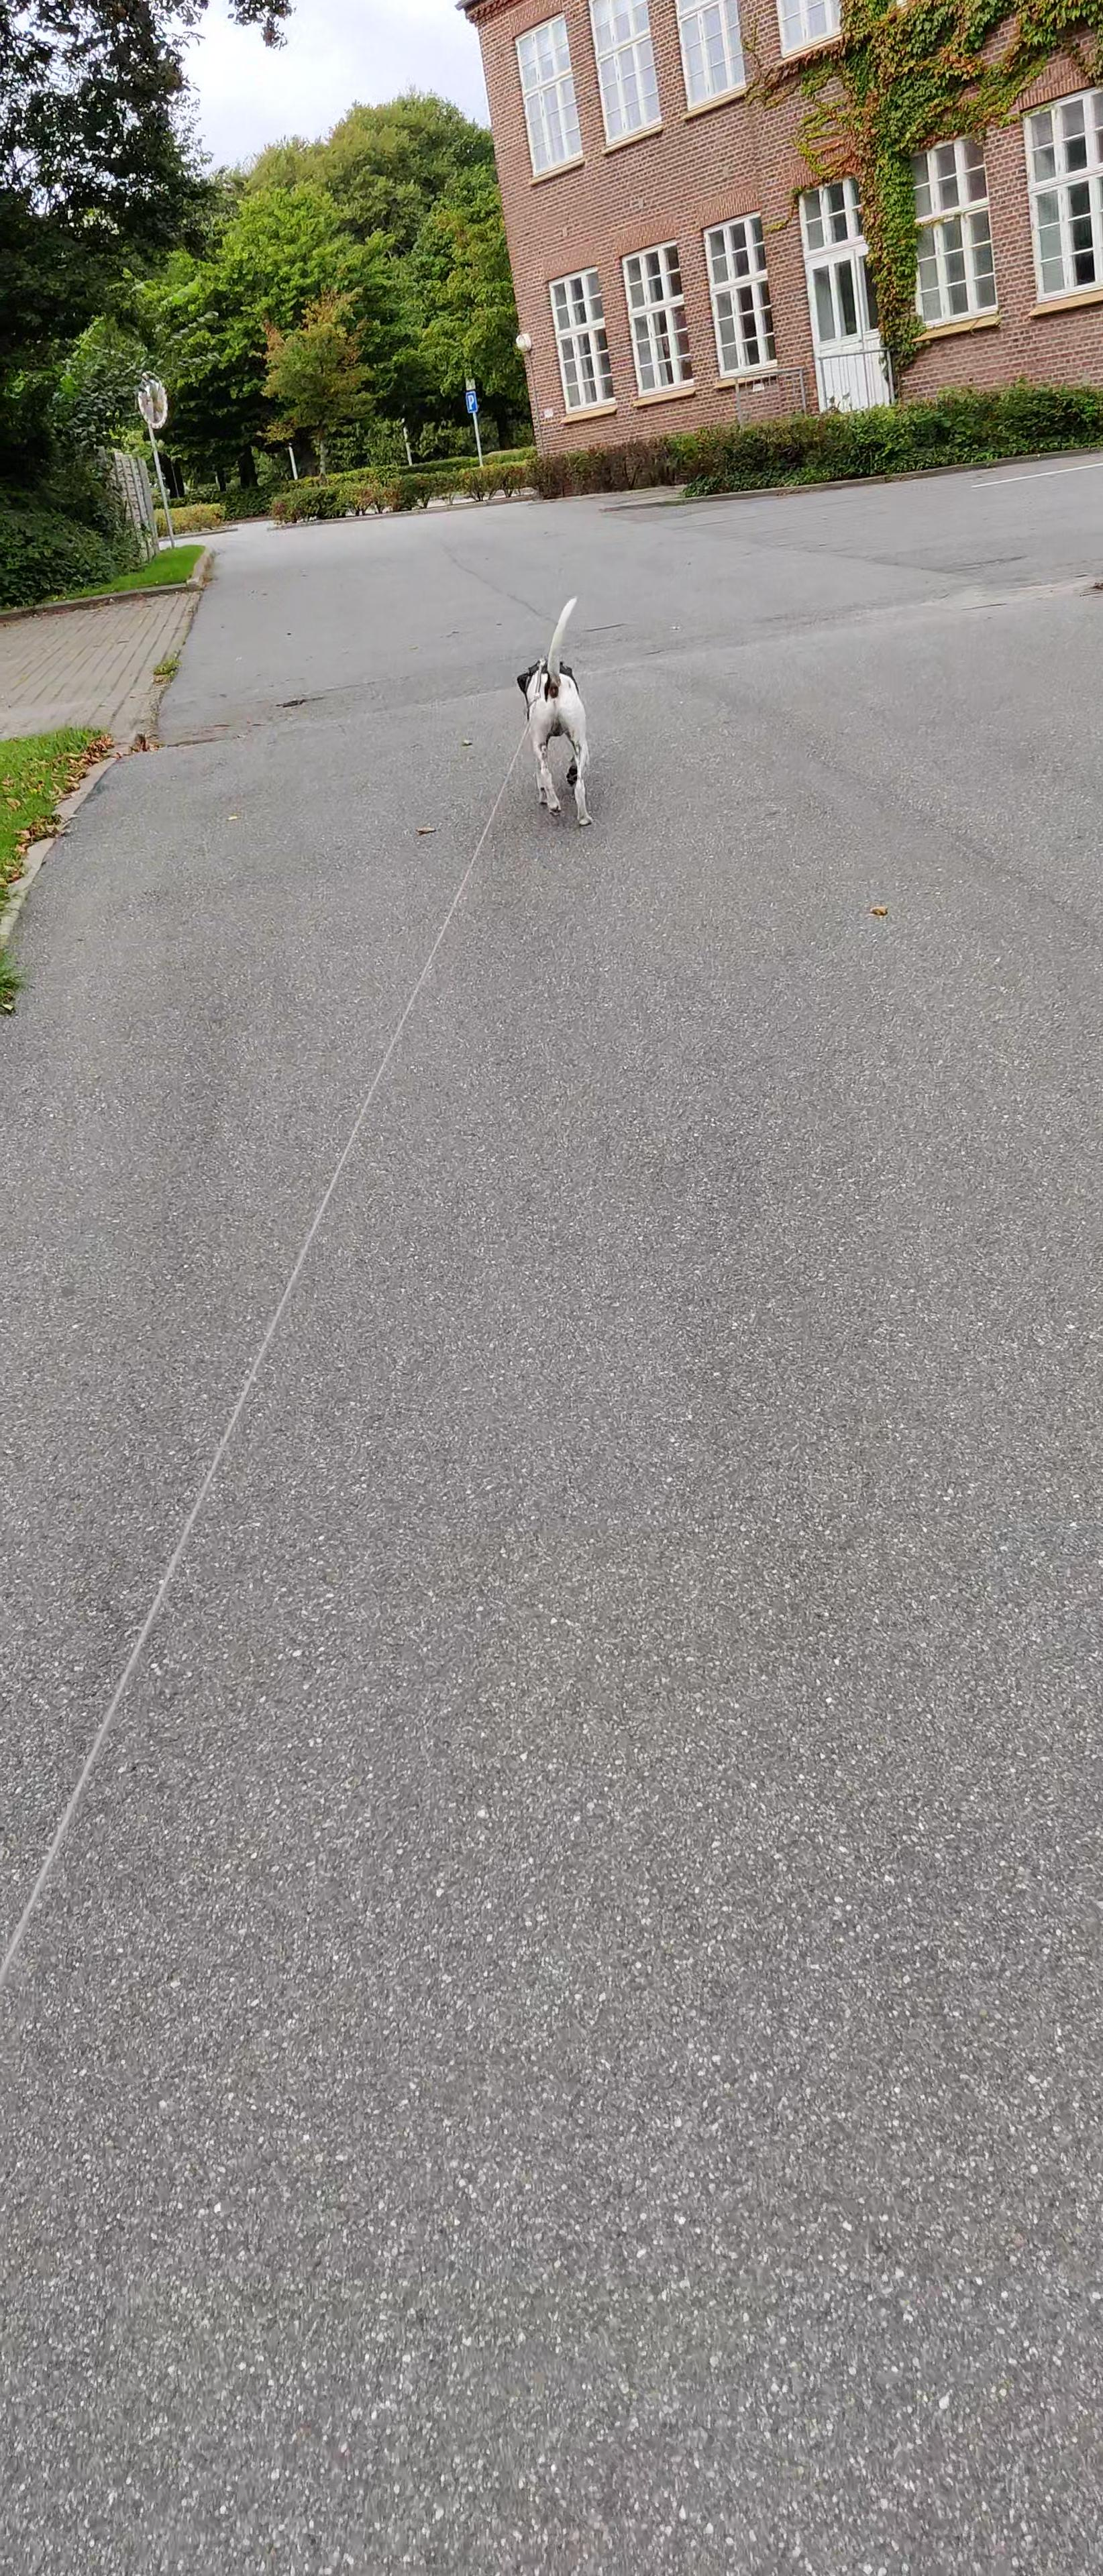Dog: (513, 593, 595, 830)
